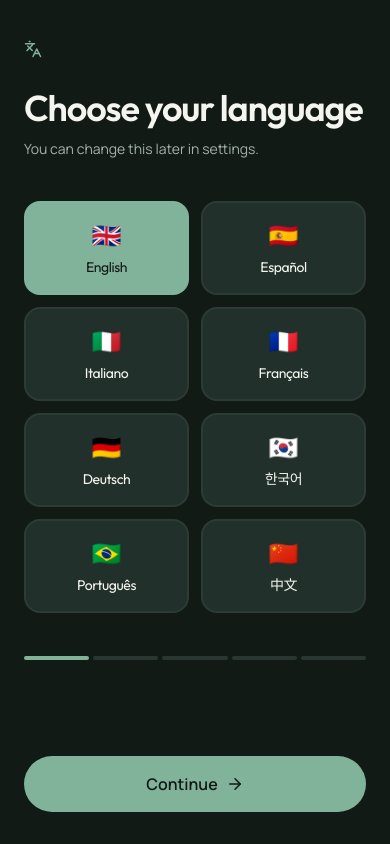
Test: OnboardingDialog authentication step › authenticated users finish profile setup without another auth choice
Later steps or results of the test are not shown.
Click the button "Continue".
click(195, 784)  # box [24, 756, 366, 812]
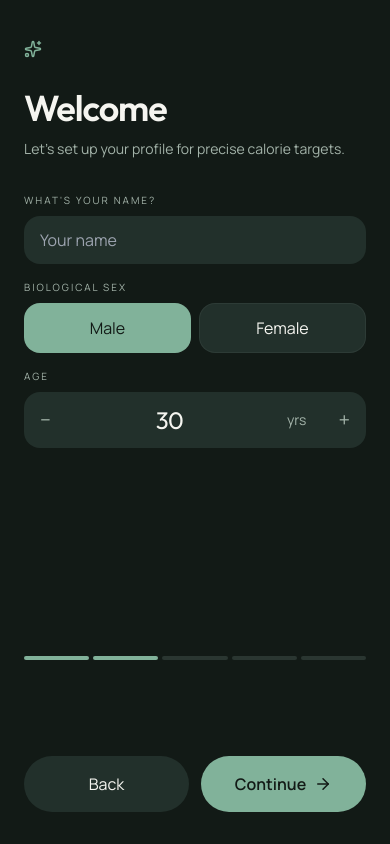
Click the button "Continue".
click(284, 784)  # box [201, 756, 366, 812]
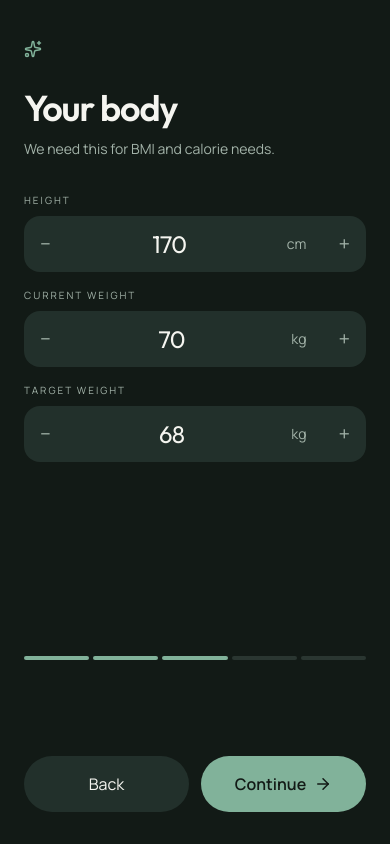
Click the button "Continue".
click(284, 784)  # box [201, 756, 366, 812]
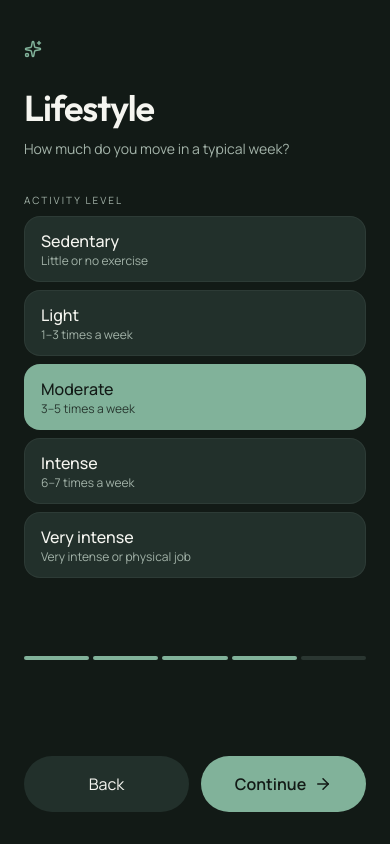
Click the button "Continue".
click(284, 784)  # box [201, 756, 366, 812]
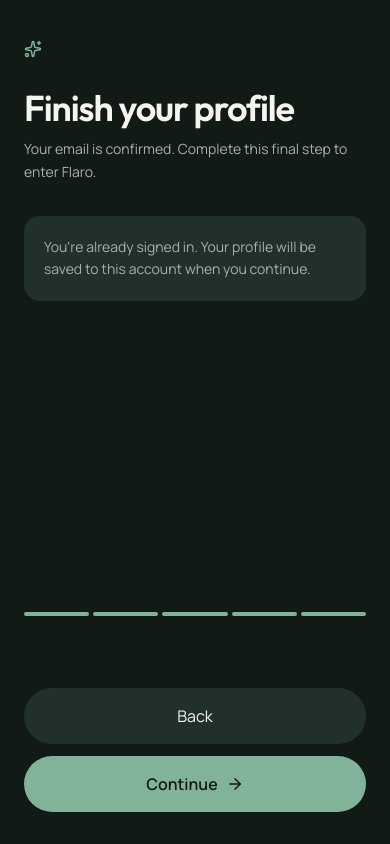
Result: the text "You're already signed in" is shown at [44, 236, 316, 278]
